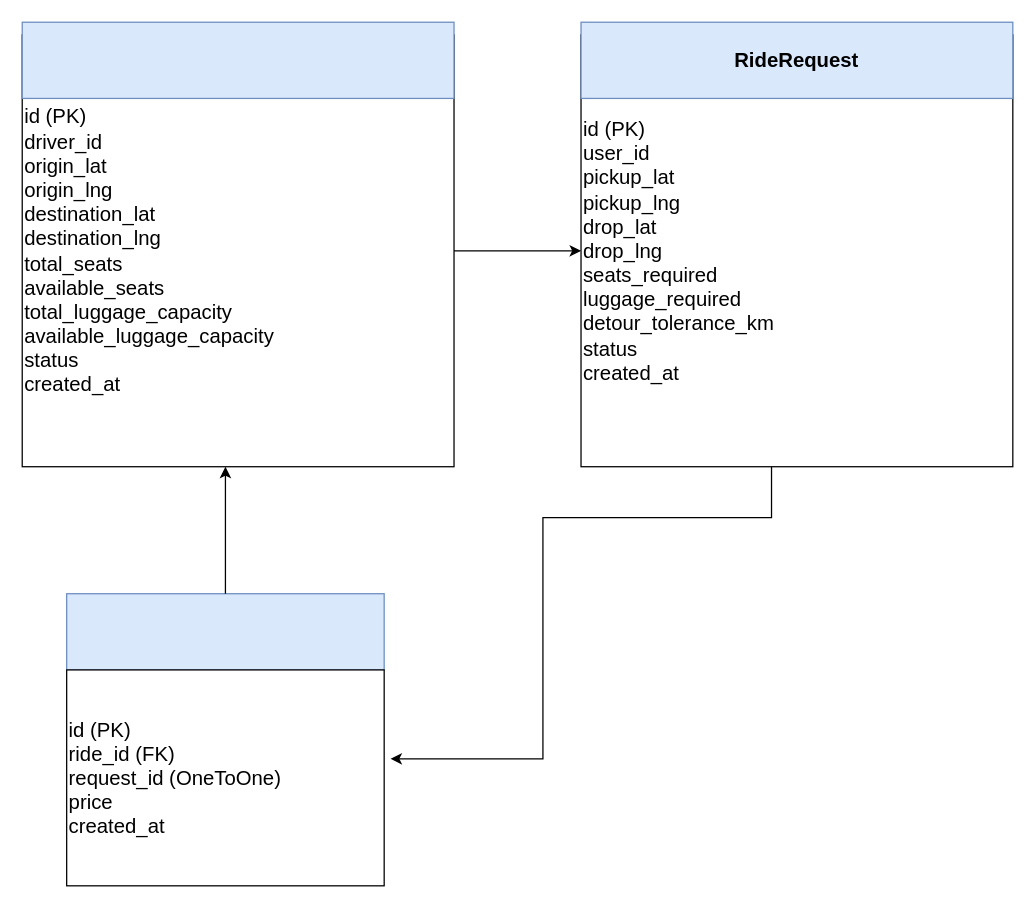
The diagram is 1035 pixels wide and 908 high, and some of its shapes have lost their labels. Here are the shapes that lost their labels. From the top down, the centre of each, then its label:
At (x=237, y=59): "Ride".
At (x=224, y=631): "Booking".
